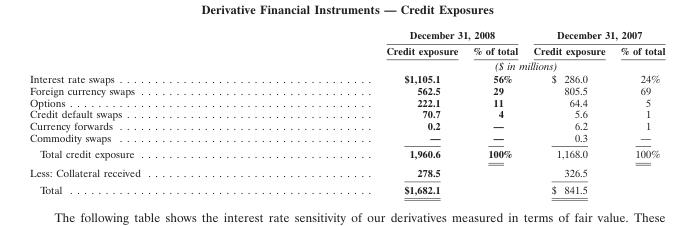table: (28, 28, 664, 195)
table column: (28, 28, 262, 195), (262, 28, 465, 195), (525, 28, 612, 195), (465, 28, 525, 195), (612, 28, 664, 195)
table column header: (28, 28, 664, 72)
table row: (28, 145, 664, 163), (28, 163, 664, 180), (28, 42, 664, 57), (28, 57, 664, 72), (28, 180, 664, 195), (28, 28, 664, 42), (28, 131, 664, 145), (28, 72, 664, 84), (28, 84, 664, 96), (28, 107, 664, 119), (28, 119, 664, 131), (28, 96, 664, 107)
table spanning cell: (262, 57, 664, 72), (262, 28, 525, 42), (525, 28, 664, 42)
